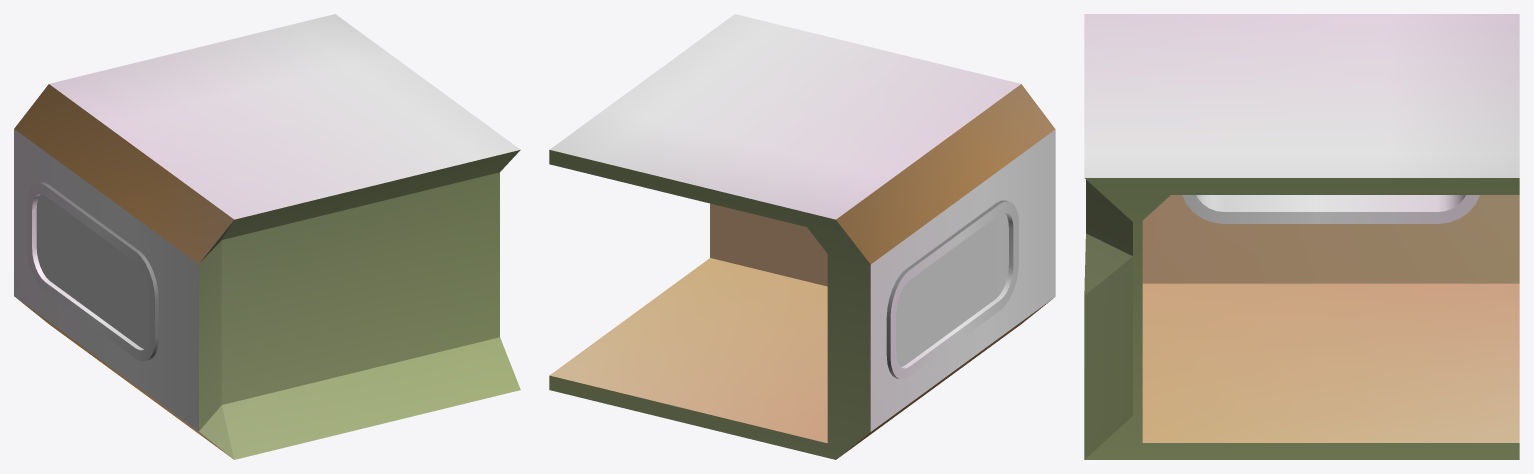
The model's file is R_OutWall_Window_L.fbx.
3 views of the same model, side by side, from view 1: azimuth 30°, elevation 25°; view 2: azimuth 150°, elevation 25°; view 3: azimuth 270°, elevation 25° (orthographic). The views are drawn at different scales.
Parts seen in each view (by area): view 1: R_OutWall_Window_L; view 2: R_OutWall_Window_L; view 3: R_OutWall_Window_L.
Boxes of the visible parts, x1,y1,x2,y2 form: R_OutWall_Window_L: [14, 14, 520, 459]; R_OutWall_Window_L: [549, 14, 1055, 459]; R_OutWall_Window_L: [1084, 14, 1519, 459].
Size of the model in its own units: 467 by 330 by 462.
